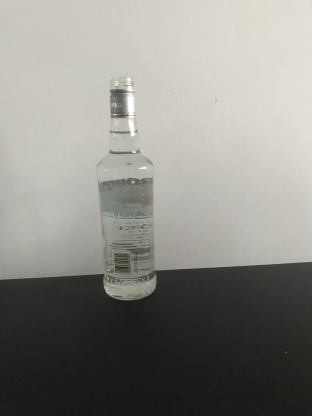nakretka: (107, 76, 136, 119)
